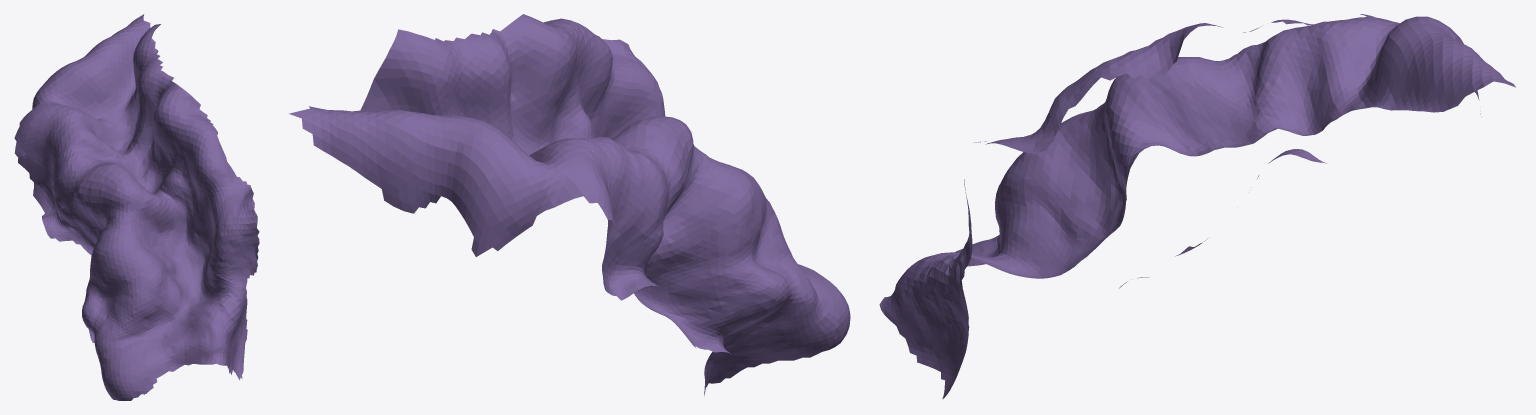
File: lh_rostralmiddlefrontal.glb
3 renders of one model, left to right at view 1: azimuth 30°, elevation 25°; view 2: azimuth 150°, elevation 25°; view 3: azimuth 270°, elevation 25°, orthographic. The views are drawn at different scales.
Visible parts, largest first — view 1: world; view 2: world; view 3: world.
Part boxes in pixels (x1,y1,x2,y2): world: (14,14,259,400); world: (289,14,850,395); world: (879,14,1515,398).
Bounding box in the file's own units: 37.84 × 51.22 × 63.53.
